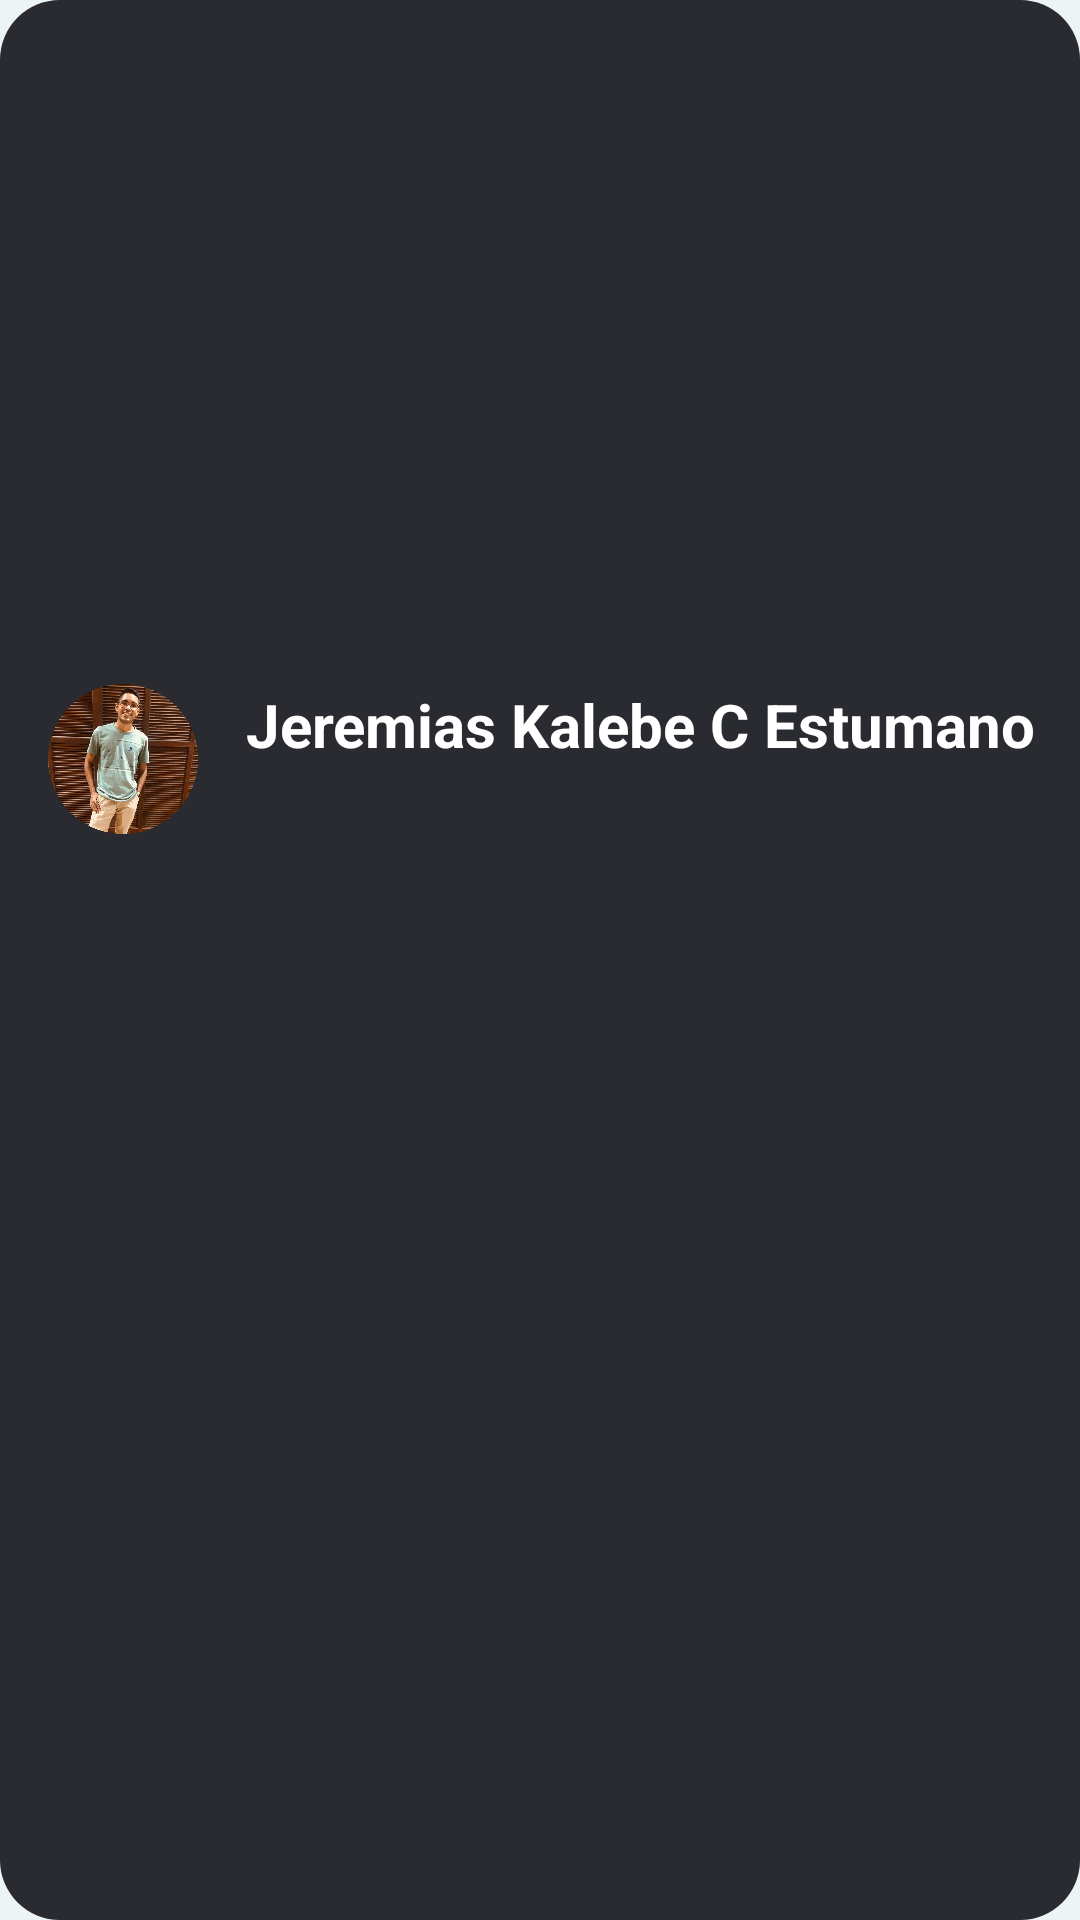

Locate icon controls on the screen. Image size 1080px×1920px, boxes as bbox=[x1, y1, x2, y2].
perfil: bbox=[48, 684, 198, 834]
